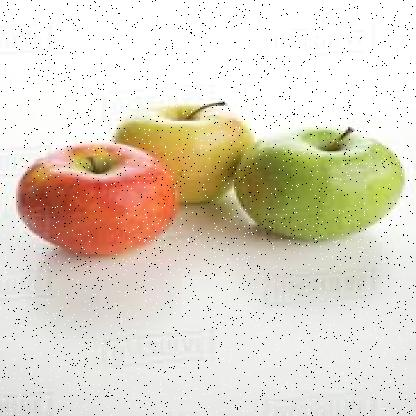apple: (232, 127, 396, 253), (13, 141, 182, 257), (109, 102, 250, 200)
